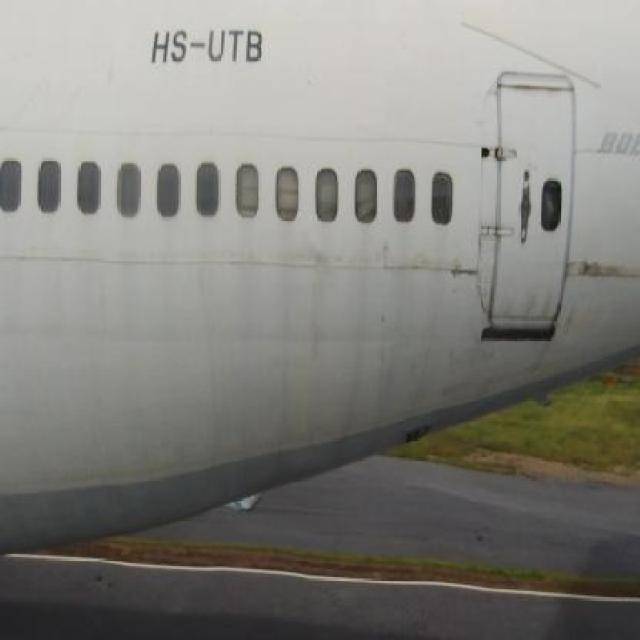Scartch: (383, 245, 488, 303), (563, 250, 640, 292)
